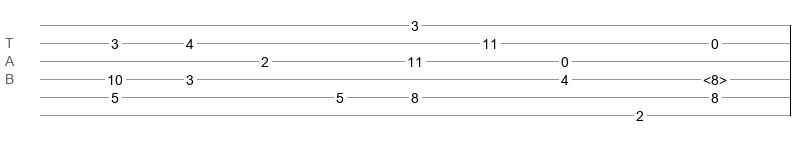0: (561, 54, 569, 64), (711, 36, 719, 46)
10: (107, 72, 123, 82)
11: (407, 54, 423, 64), (482, 36, 498, 46)
2: (261, 54, 269, 64), (636, 108, 644, 118)
3: (111, 36, 119, 46), (186, 72, 194, 82), (411, 18, 419, 28)
4: (186, 36, 194, 46), (561, 72, 569, 82)
5: (111, 90, 119, 100), (336, 90, 344, 100)
8: (411, 90, 419, 100), (711, 90, 719, 100)
harmonic: (703, 72, 727, 82)
